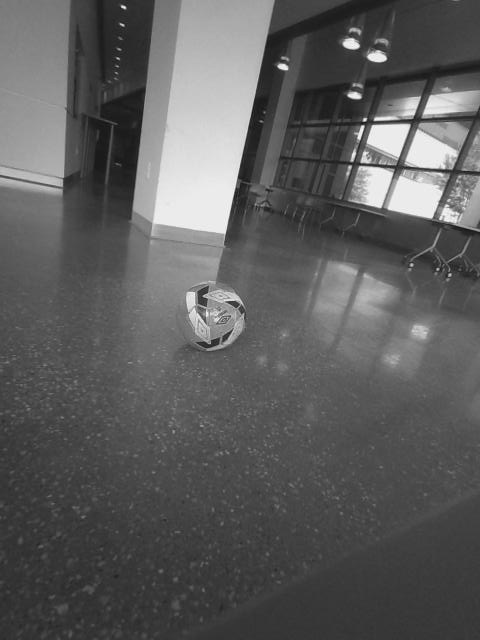ball: (176, 279, 250, 356)
